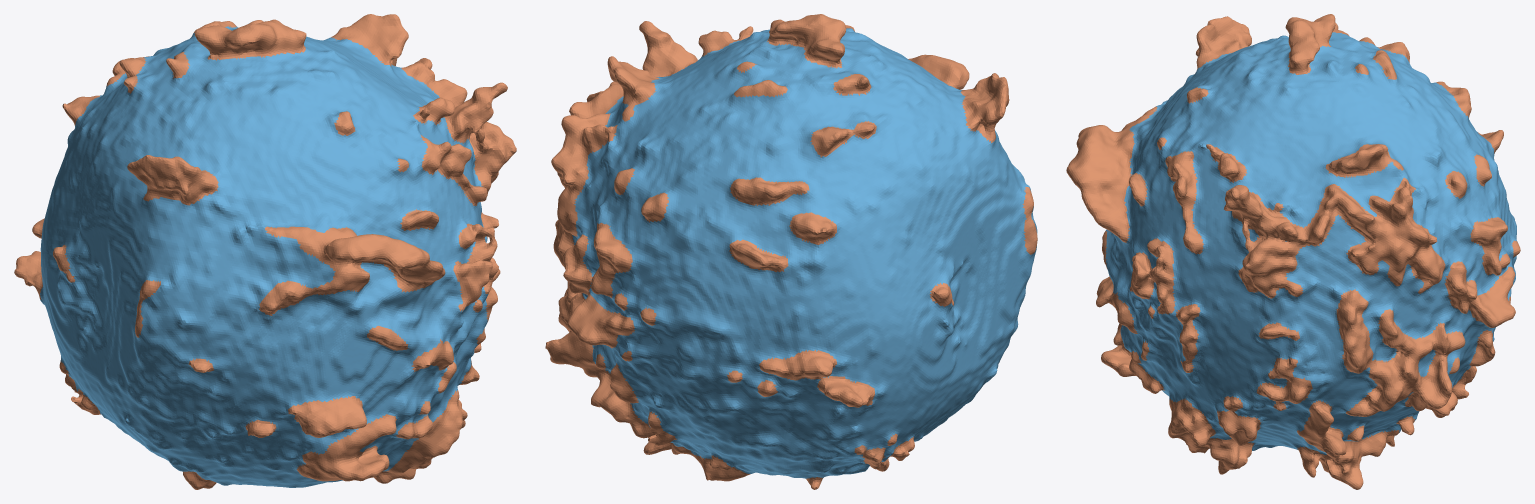
3 renders of one model, left to right at view 1: azimuth 30°, elevation 25°; view 2: azimuth 150°, elevation 25°; view 3: azimuth 270°, elevation 25°, orthographic. The views are drawn at different scales.
Size of the model in its own units: 149 by 159 by 161.
